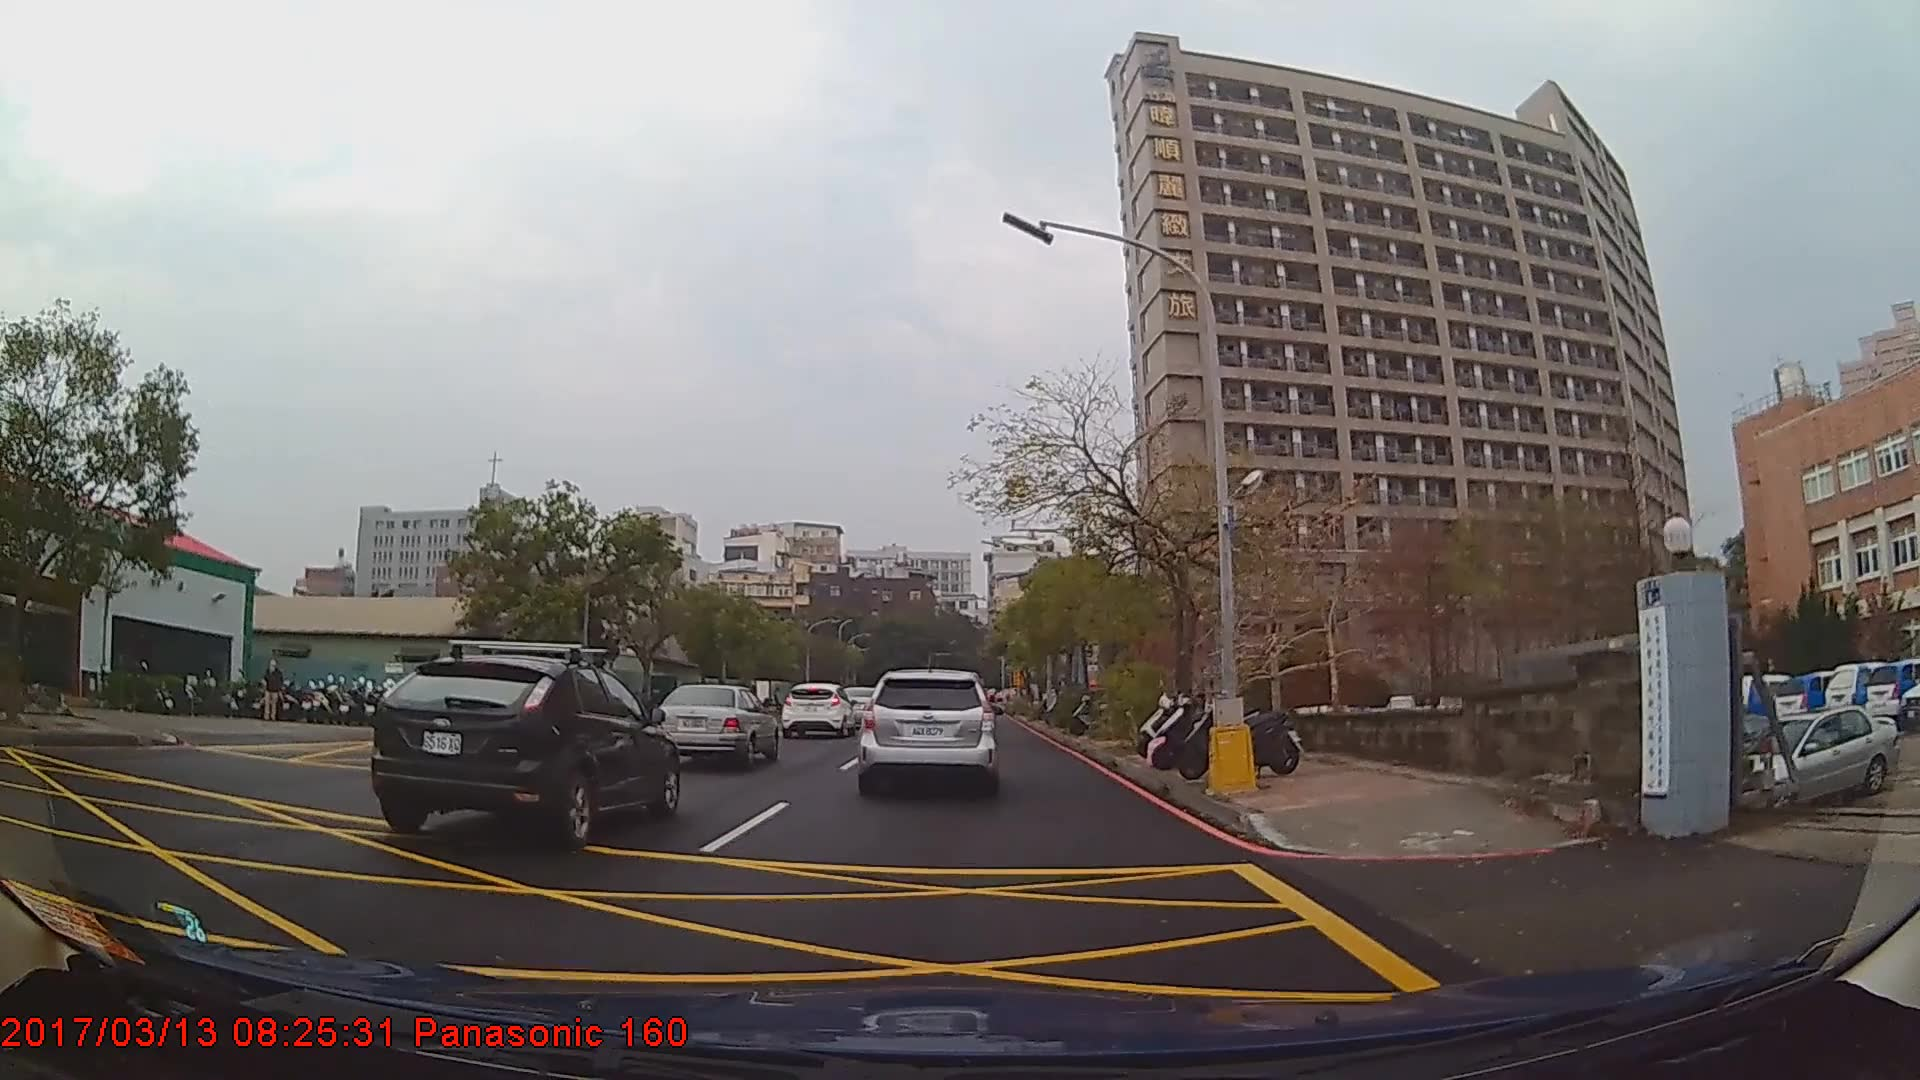pedestrian: (263, 662, 285, 723)
vehicle: (368, 653, 679, 842), (1727, 704, 1901, 809), (860, 666, 996, 795), (653, 682, 780, 769), (782, 683, 857, 742)
